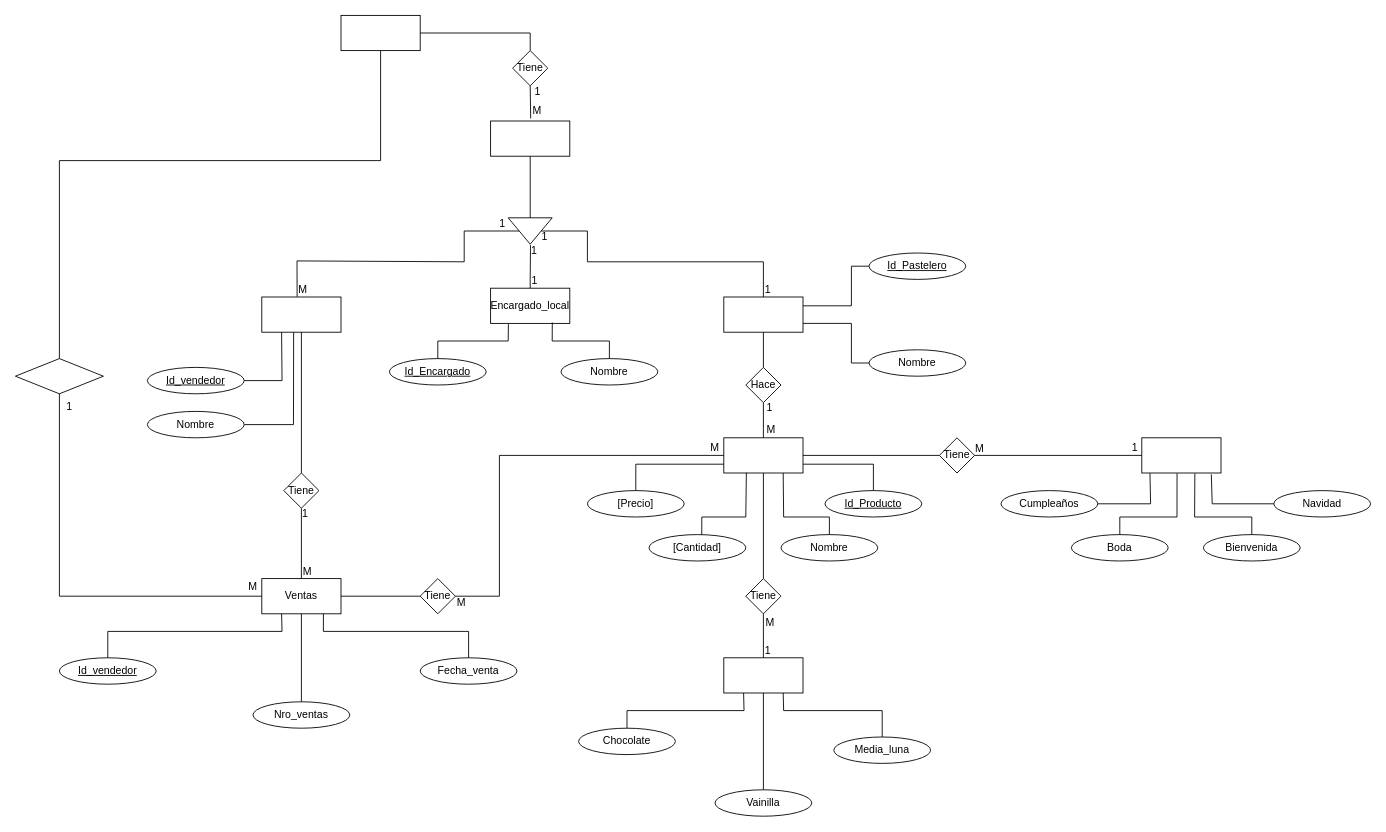
Image size: 1386x832. Some labels were removed from this diagram. The centre of each missing label's shape, as x and y in pixels:
"Categoría" goes at point (1181, 455).
"Pastel" goes at point (763, 455).
"Pastelero" goes at point (763, 314).
"Propietario" goes at point (380, 33).
"Son" goes at point (529, 230).
"Tiene_Reporte" goes at point (59, 376).
"Tipo_Pastel" goes at point (763, 675).
"Trabajador" goes at point (530, 138).
"Vendedor" goes at point (301, 314).
